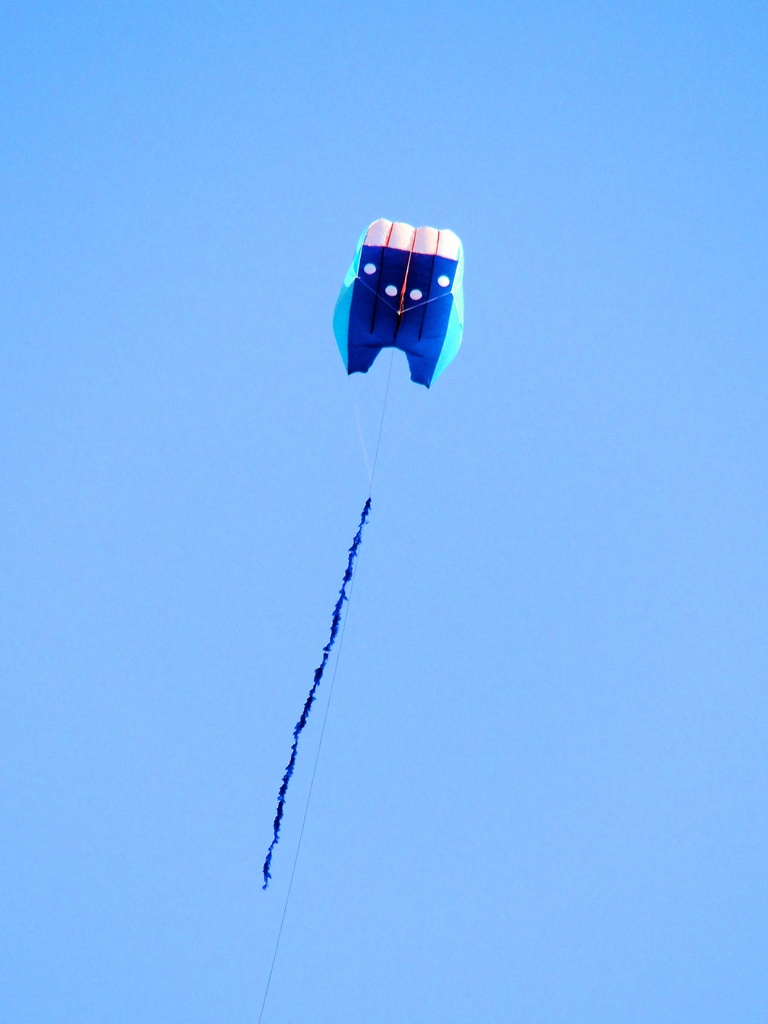kite: (252, 216, 478, 929)
